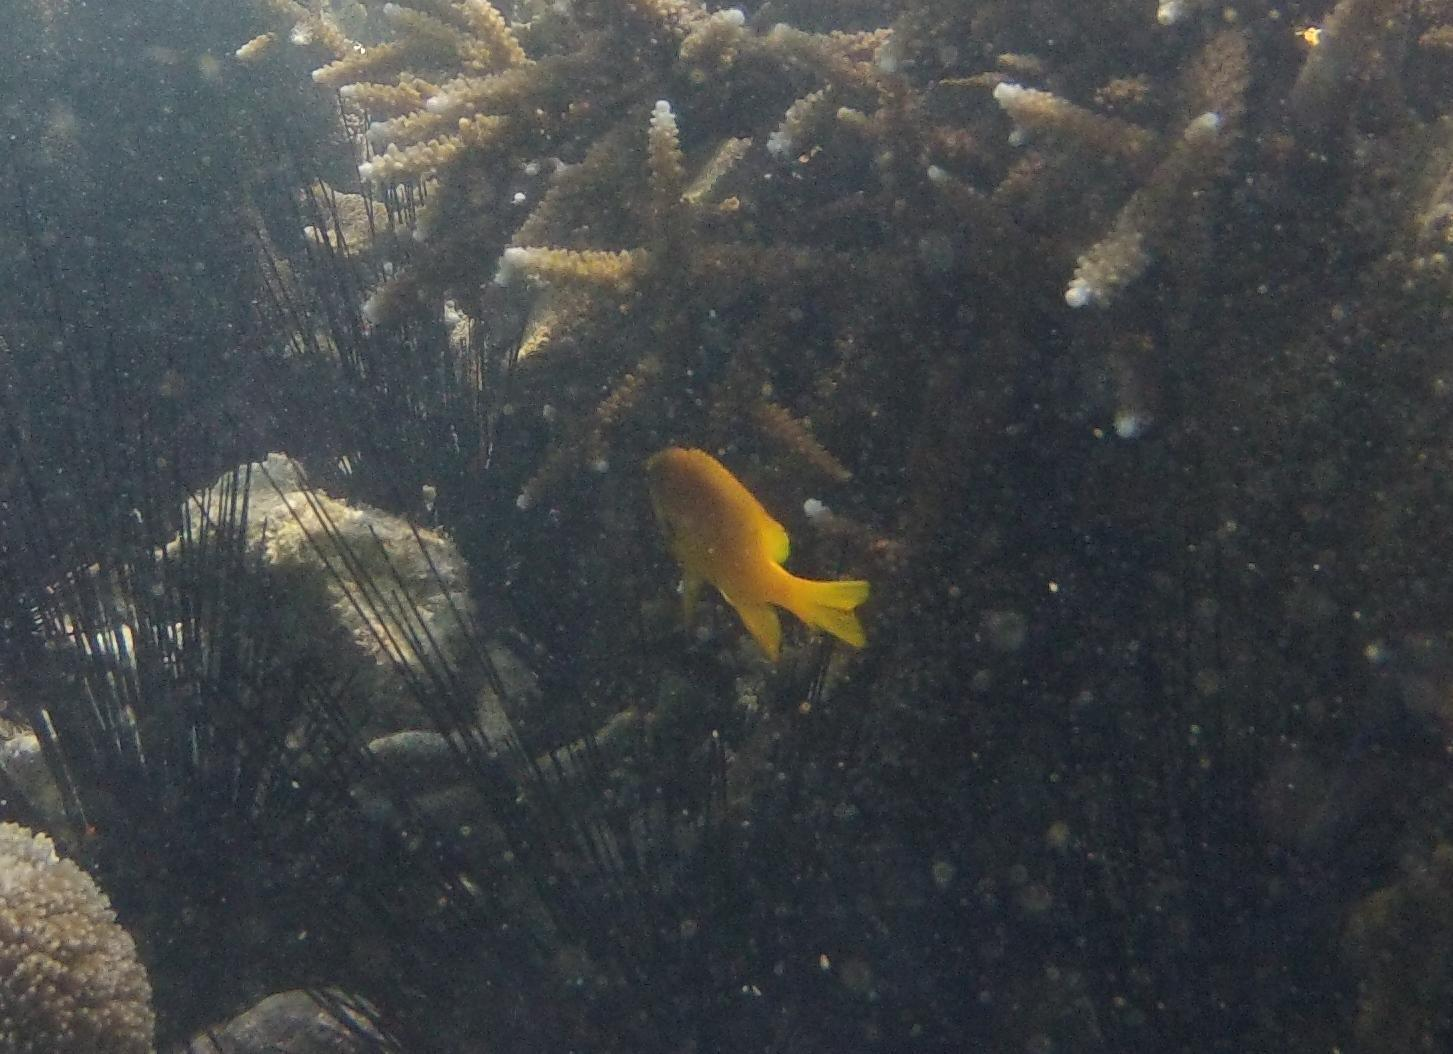Fish: (635, 427, 910, 676)
